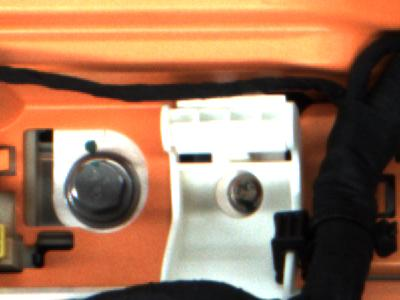nut_b: (62, 148, 147, 231)
